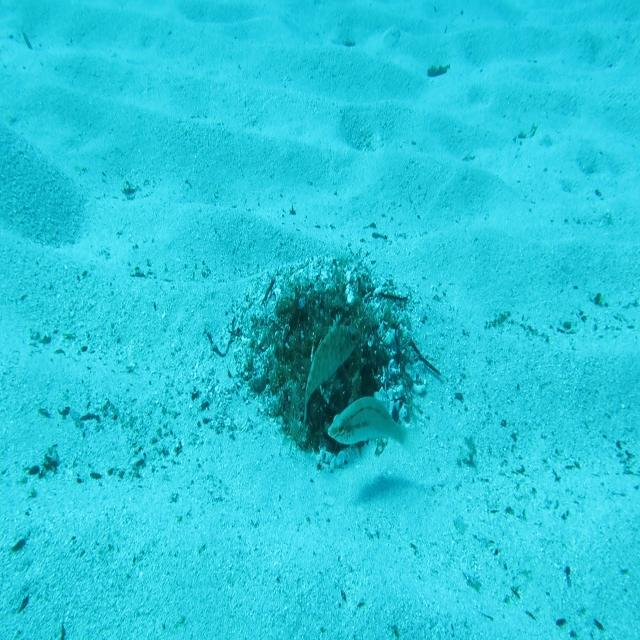BEND: (301, 309, 364, 434)
core_nest: (302, 305, 346, 358)
female: (326, 392, 423, 465)
nest: (222, 237, 438, 490)
vegetation: (426, 63, 452, 78)
